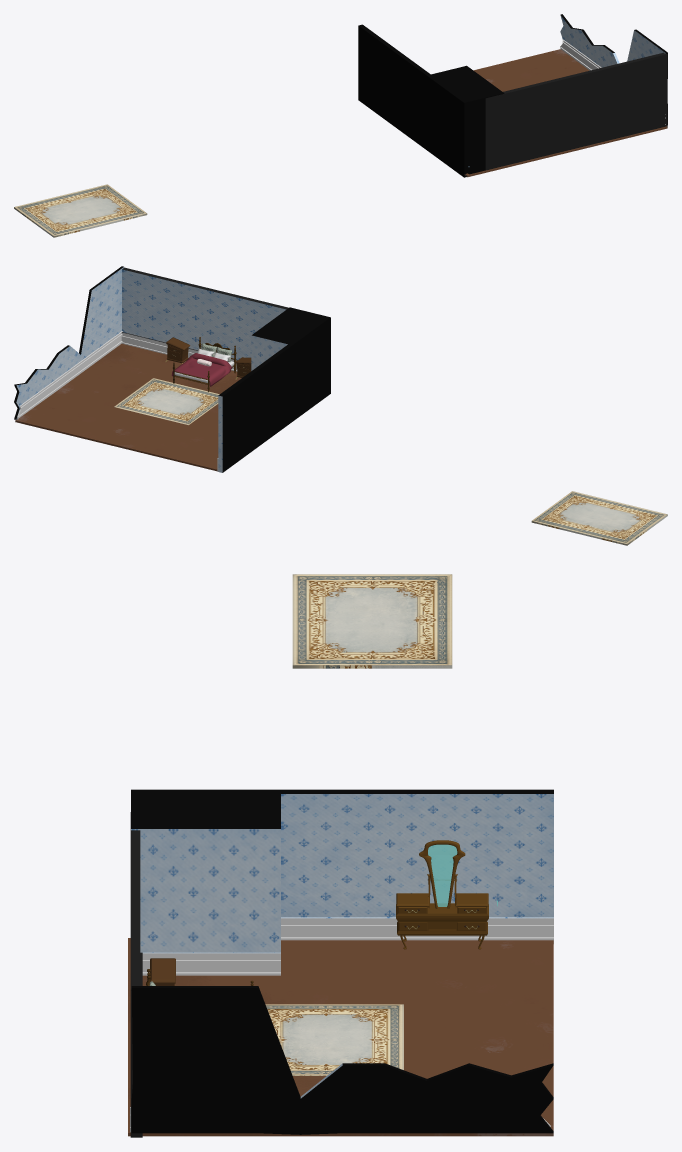
The model's file is newbedroom.glb.
3 views of the same model, one above another, from view 1: azimuth 30°, elevation 25°; view 2: azimuth 150°, elevation 25°; view 3: azimuth 270°, elevation 25° (orthographic). The views are drawn at different scales.
Parts seen in each view (by area): view 1: floor.003, floor.004, rug.001, floor, floor.005; view 2: floor, floor.004, floor.003, floor.005, rug.001, rug, Plane; view 3: floor.004, floor.005, floor, rug.001, rug, Cube.002, floor.003, Plane.002.
Part boxes in pixels (x1=…): floor.003: x1=485, y1=52, x2=667, y2=170; floor.004: x1=358, y1=24, x2=504, y2=177; rug.001: x1=14, y1=184, x2=147, y2=237; floor: x1=464, y1=49, x2=667, y2=177; floor.005: x1=560, y1=14, x2=667, y2=124; floor: x1=15, y1=343, x2=241, y2=471; floor.004: x1=217, y1=307, x2=330, y2=472; floor.003: x1=121, y1=267, x2=288, y2=371; floor.005: x1=14, y1=266, x2=124, y2=419; rug.001: x1=531, y1=491, x2=667, y2=545; rug: x1=114, y1=378, x2=219, y2=425; Plane: x1=171, y1=353, x2=231, y2=386; floor.004: x1=131, y1=789, x2=553, y2=975; floor.005: x1=130, y1=986, x2=553, y2=1134; floor: x1=128, y1=938, x2=553, y2=1136; rug.001: x1=292, y1=574, x2=452, y2=668; rug: x1=265, y1=1004, x2=403, y2=1075; Cube.002: x1=396, y1=893, x2=488, y2=935; floor.003: x1=130, y1=812, x2=142, y2=1137; Plane.002: x1=428, y1=844, x2=457, y2=906.
Bounding box in the file's own units: 92.35 × 12.22 × 29.68.
Materials: 33 (5 with a texture image).
